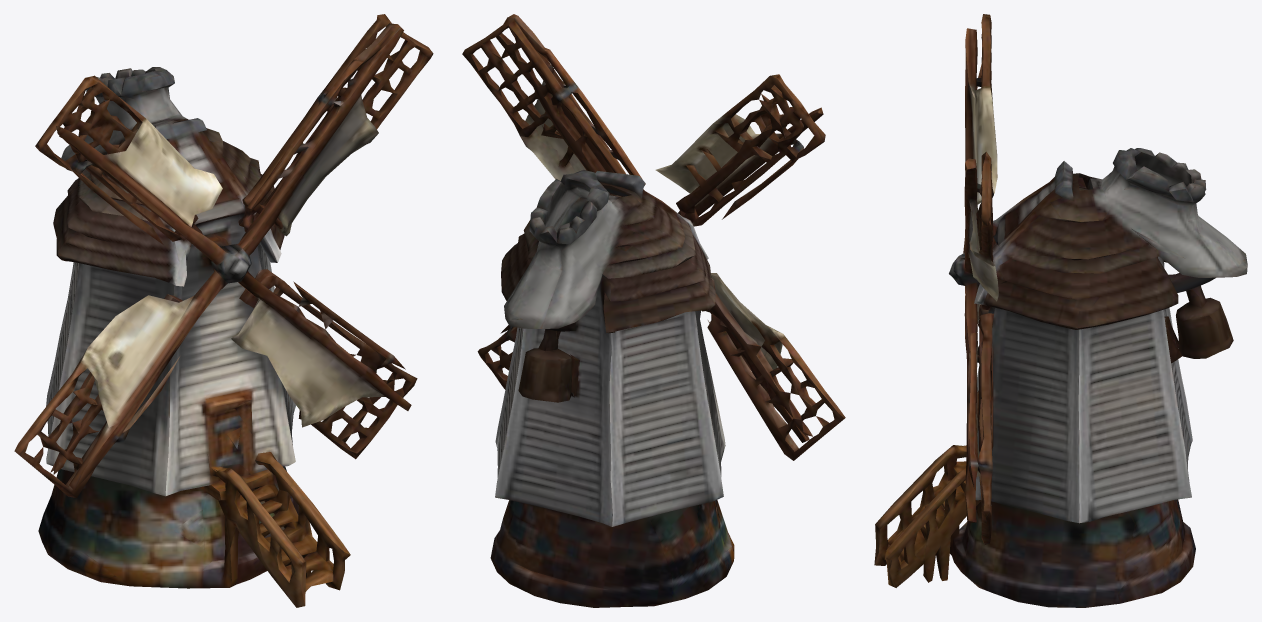
File: windmill_b.glb
3 views of the same model, side by side, from view 1: azimuth 30°, elevation 25°; view 2: azimuth 150°, elevation 25°; view 3: azimuth 270°, elevation 25° (orthographic). The views are drawn at different scales.
Visible parts, largest first — view 1: world; view 2: world; view 3: world.
Part boxes in pixels (x1=…): world: x1=14, y1=14, x2=433, y2=607; world: x1=462, y1=14, x2=845, y2=607; world: x1=874, y1=14, x2=1247, y2=607.
Bounding box in the file's own units: 0.8282 × 0.995 × 0.6939.
1 material, 1 textured.
